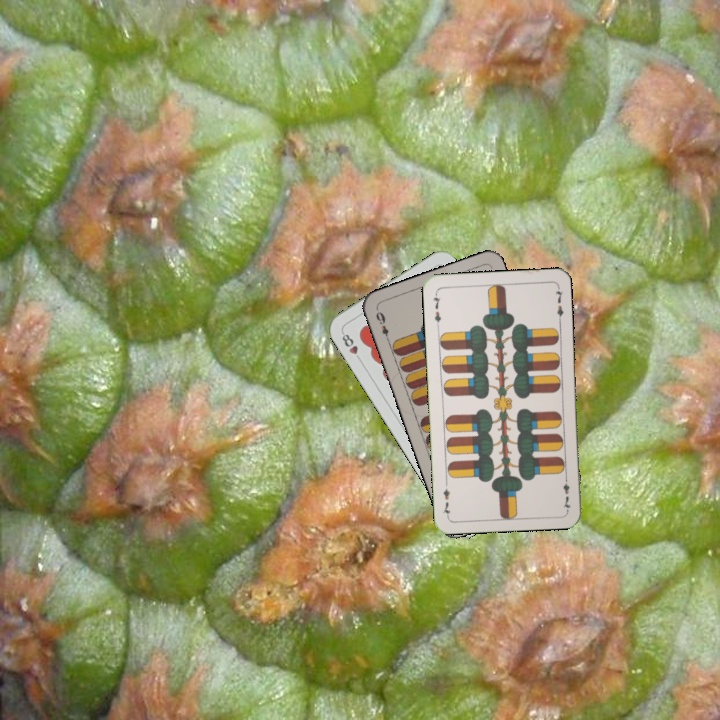E7: (429, 289, 444, 330), (559, 471, 573, 512)
E9: (372, 306, 392, 345)
H8: (338, 328, 364, 364)
